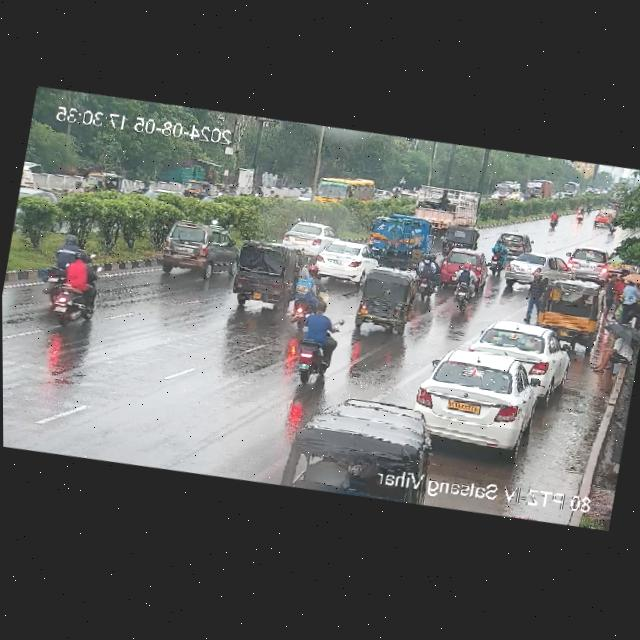bus: (309, 171, 376, 216), (487, 178, 521, 211)
car: (295, 386, 436, 509), (406, 342, 549, 458), (465, 312, 569, 387), (221, 235, 307, 318), (349, 259, 423, 334), (526, 274, 605, 342), (157, 216, 235, 283), (307, 236, 378, 287), (498, 247, 573, 294), (437, 245, 487, 291), (279, 217, 337, 255), (562, 242, 612, 284), (80, 167, 126, 199), (442, 222, 480, 252), (495, 229, 533, 258), (180, 178, 212, 201), (589, 205, 615, 229)
motorcycle: (291, 293, 345, 384), (44, 249, 105, 326), (41, 227, 80, 302), (290, 261, 328, 323), (444, 257, 481, 307), (412, 249, 440, 296), (482, 238, 509, 275), (545, 208, 566, 230), (136, 176, 150, 196), (68, 180, 82, 196), (575, 204, 585, 222), (215, 186, 227, 197), (253, 185, 263, 198)
person: (590, 318, 635, 379), (522, 268, 551, 324), (615, 276, 640, 323)
truck: (360, 206, 436, 267), (407, 182, 485, 235), (522, 174, 556, 206)
